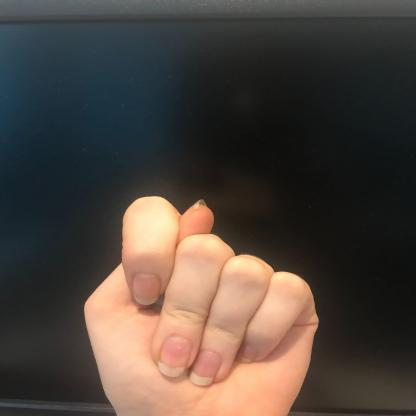T: (78, 192, 325, 415)
